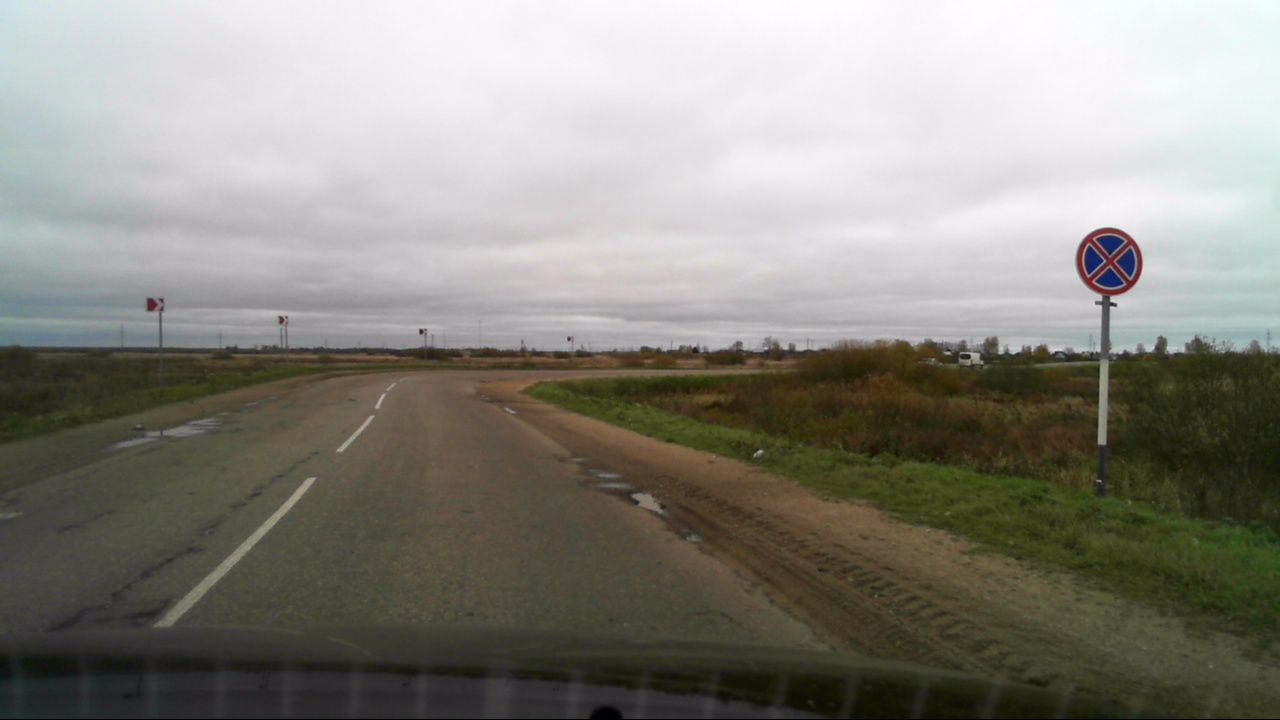No Parking: (1076, 226, 1142, 294)
